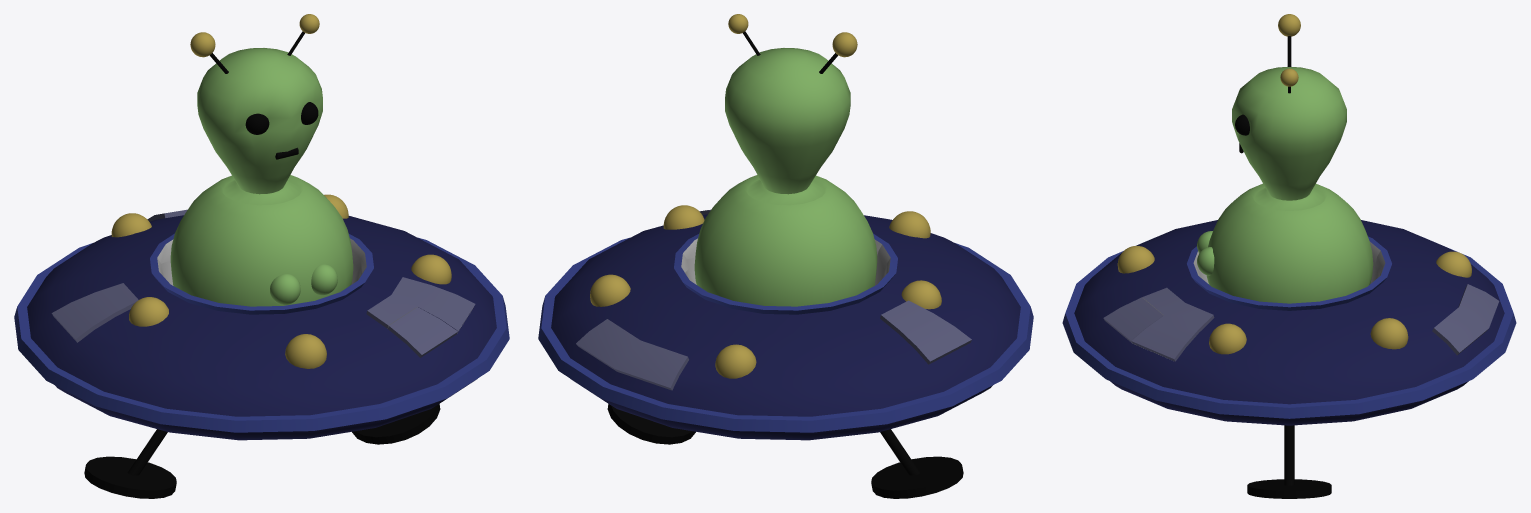
Rendered from SM_CHARACTER_2.fbx.
3 renders of one model, left to right at view 1: azimuth 30°, elevation 25°; view 2: azimuth 150°, elevation 25°; view 3: azimuth 270°, elevation 25°, orthographic. The views are drawn at different scales.
Parts seen in each view (by area): view 1: SM_CHARACTER_3; view 2: SM_CHARACTER_3; view 3: SM_CHARACTER_3.
Part boxes in pixels (x1=…): SM_CHARACTER_3: x1=14, y1=14, x2=509, y2=498; SM_CHARACTER_3: x1=538, y1=14, x2=1033, y2=498; SM_CHARACTER_3: x1=1062, y1=14, x2=1516, y2=498.
Bounding box in the file's own units: 6.29 × 6.17 × 6.29.
